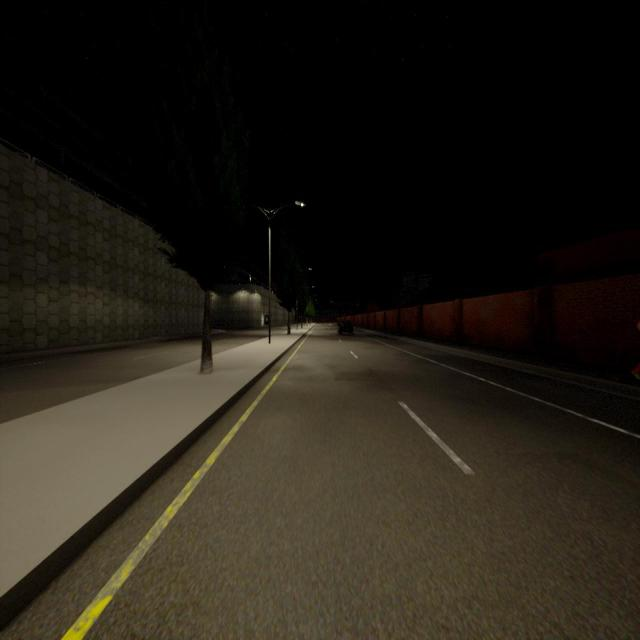Vehicle: (338, 322, 353, 334)
